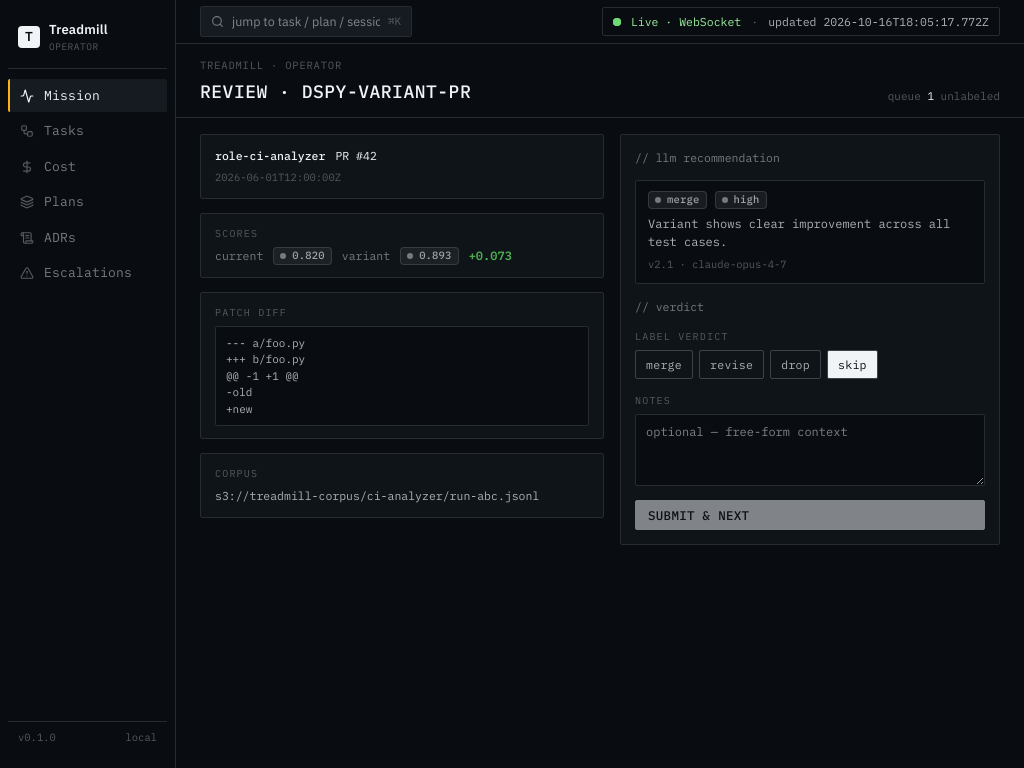
DspyVariantPrReview › blocks submit without override_reason when verdict disagrees with LLM
Expected: the text "role-ci-analyzer" is shown, [215, 147, 325, 164]
Click the button "drop" at (796, 365), box [770, 350, 821, 379]
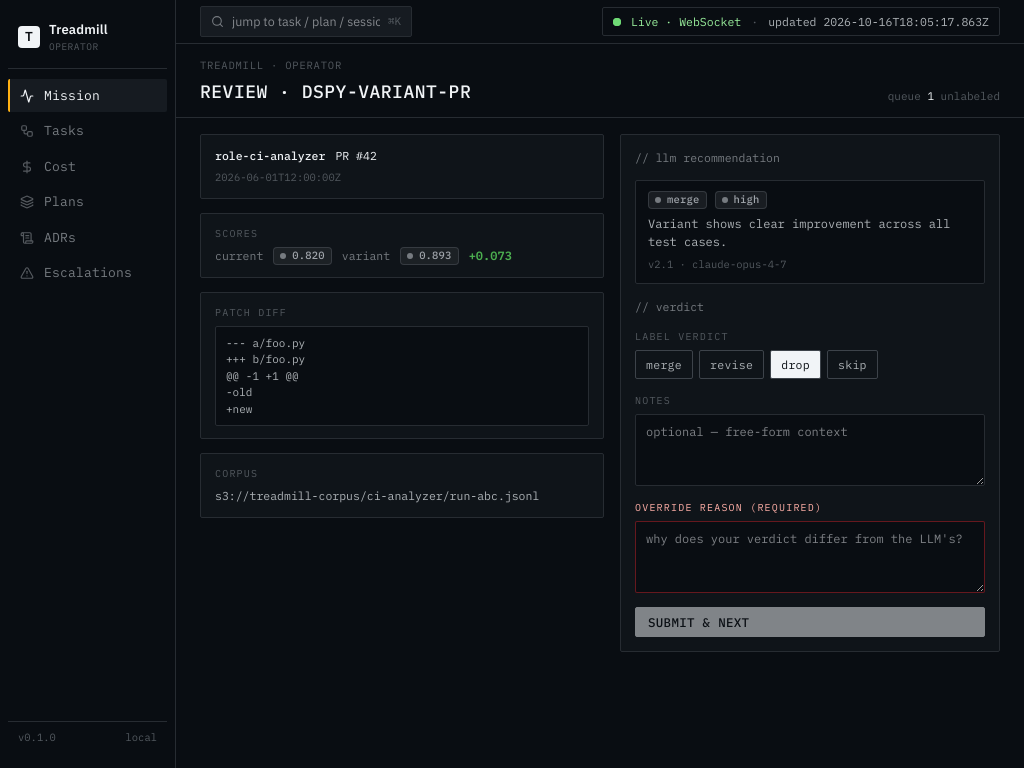
Expected: the button "submit & next" is disabled, [635, 607, 985, 637]
Expected: the text box with placeholder "why does your verdict differ from the LLM's?" is shown, [635, 521, 985, 593]
